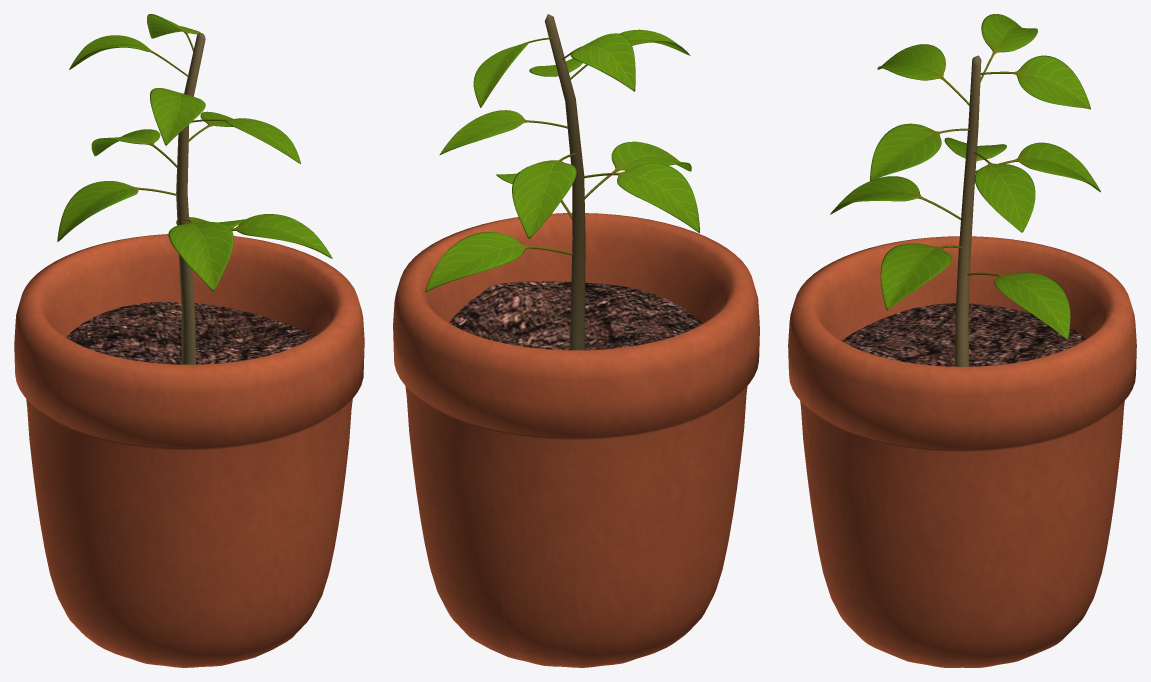
Rendered from plantnormalsmall.fbx.
3 views of the same model, side by side, from view 1: azimuth 30°, elevation 25°; view 2: azimuth 150°, elevation 25°; view 3: azimuth 270°, elevation 25° (orthographic). The views are drawn at different scales.
Parts seen in each view (by area): view 1: Mesh1; view 2: Mesh1; view 3: Mesh1.
Part boxes in pixels (box(x1,y1,x2,y2)): Mesh1: box(14, 14, 364, 667); Mesh1: box(393, 14, 759, 667); Mesh1: box(788, 14, 1136, 667).
Size of the model in its own units: 3.19 by 6.02 by 3.19.
